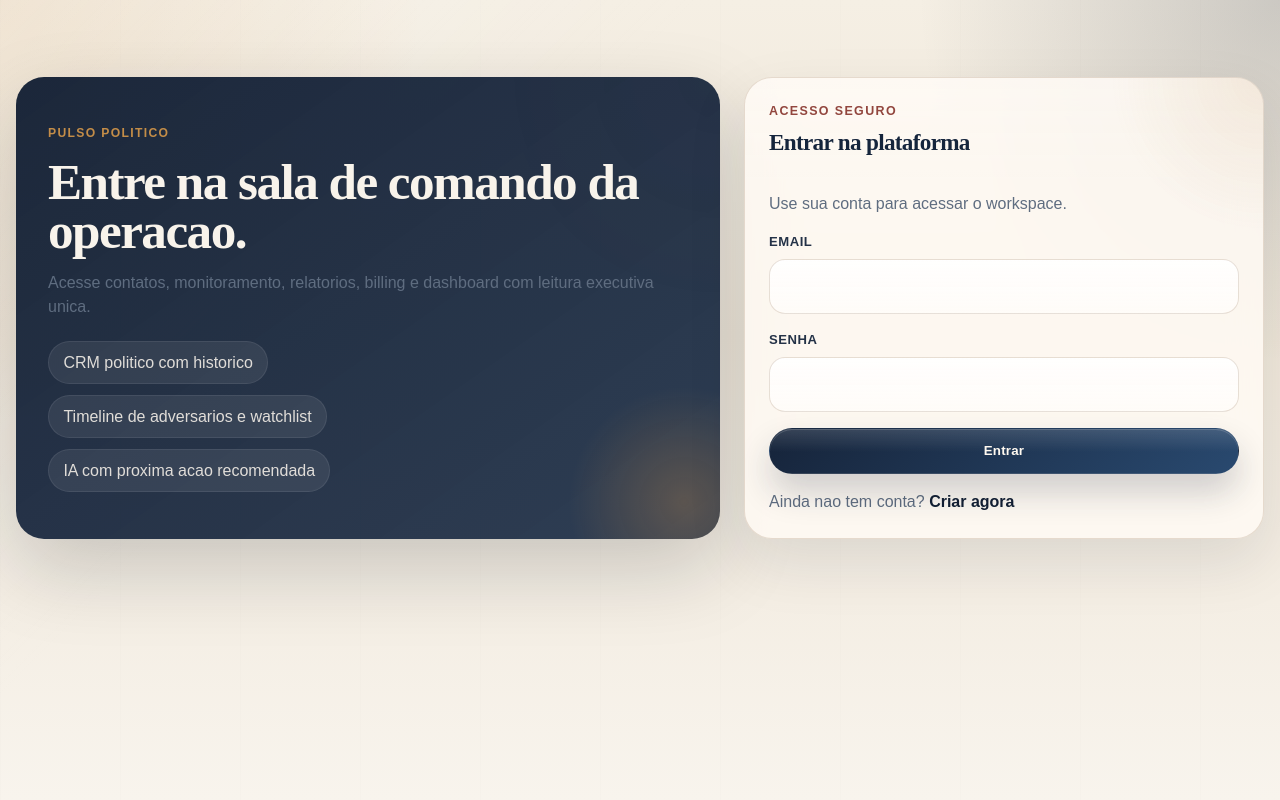
Test case: AuthPage › mostra erro quando a autenticacao falha
Step 1. Type "owner@pulso.local" into the field labelled "Email" → (1004, 287), box [769,259,1239,314]
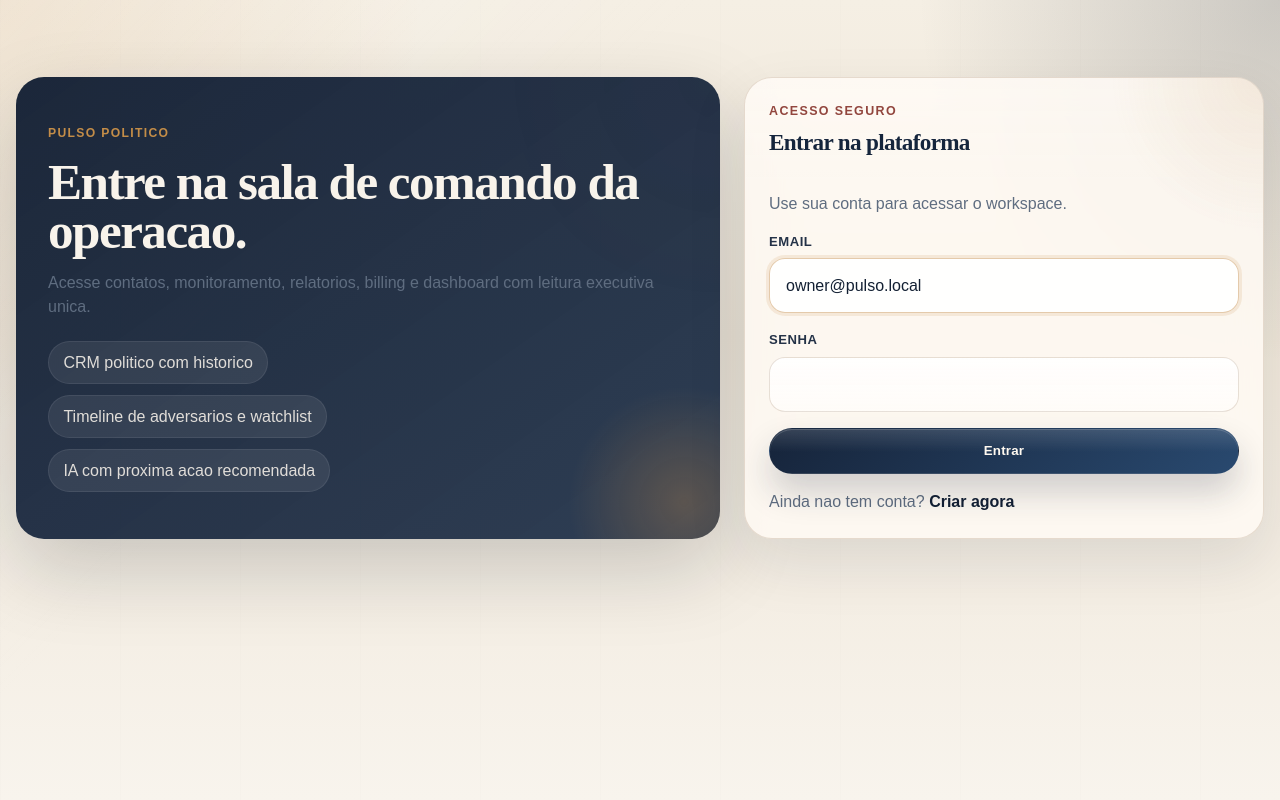
Step 2. Type "senha-invalida" into the password field labelled "Senha" → (1004, 384), box [769,357,1239,412]
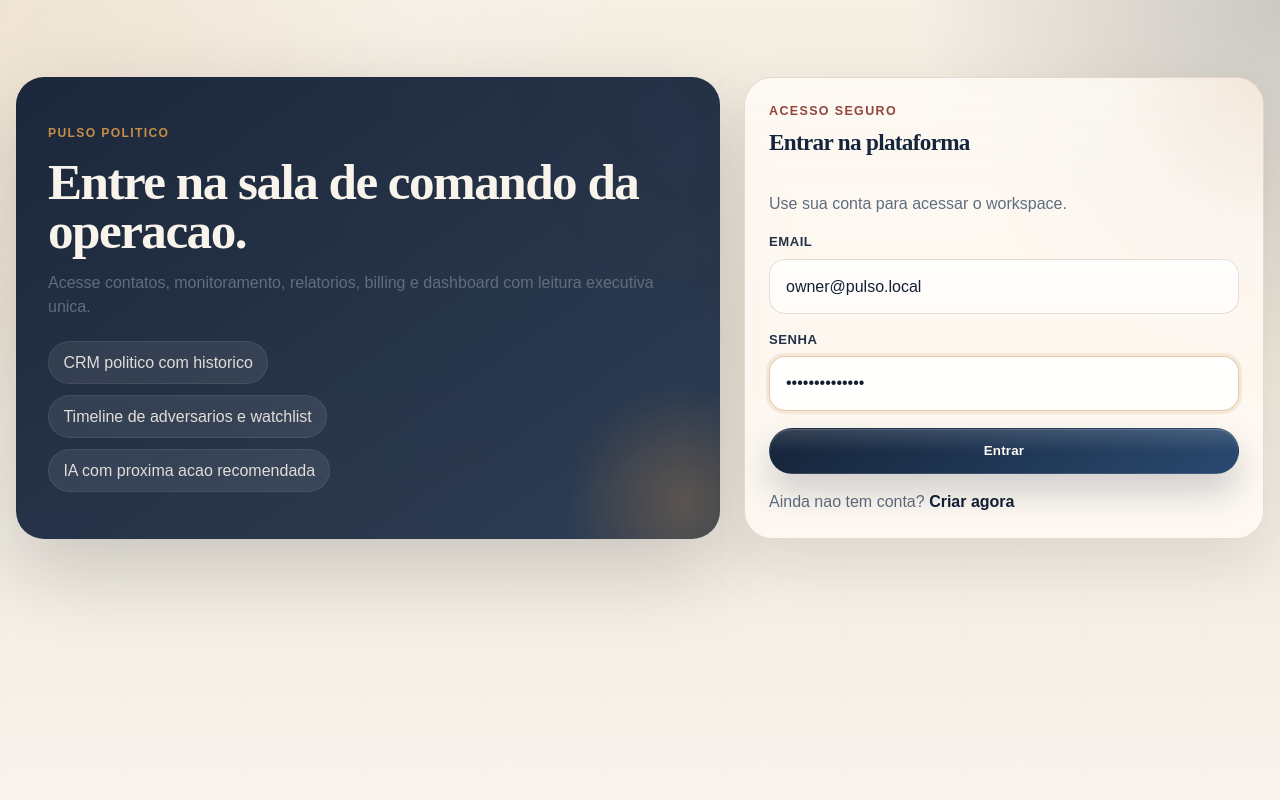
Step 3. Click the button "Entrar" → (1004, 451), box [769,428,1239,474]
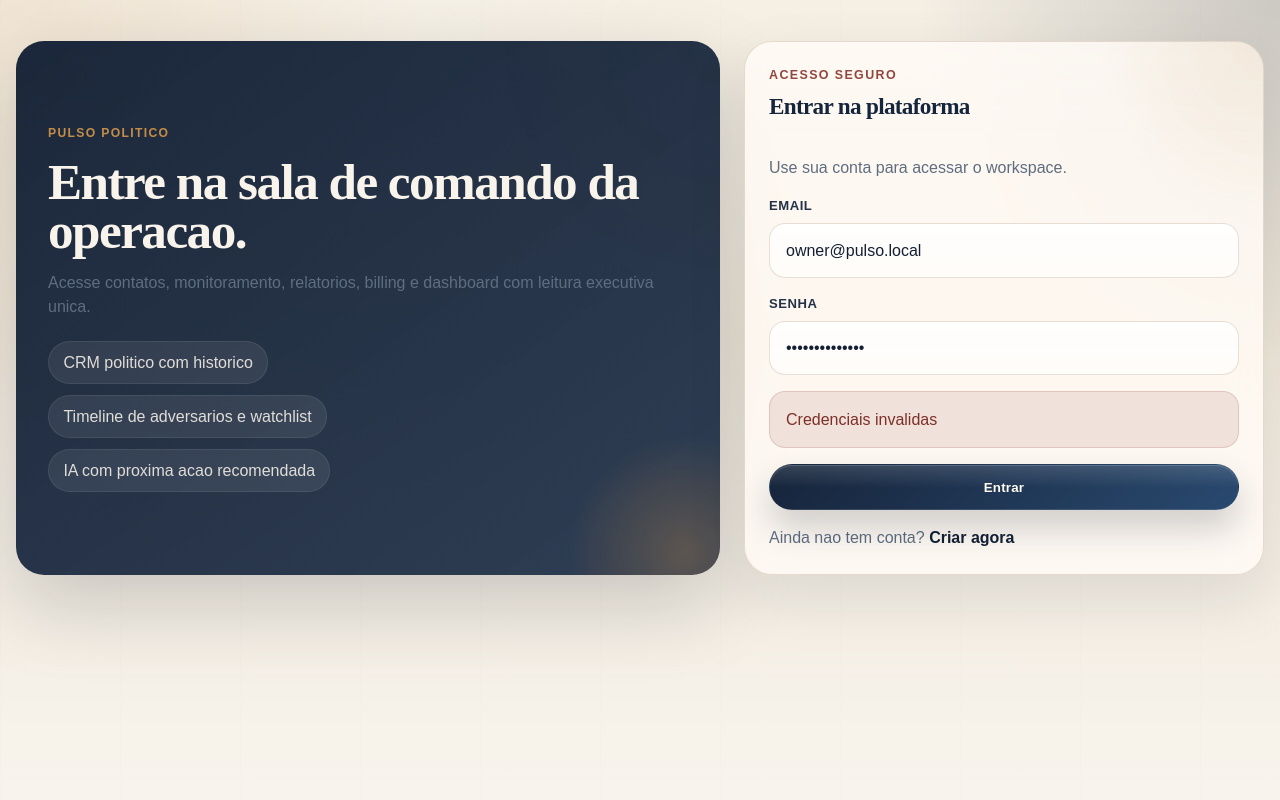
Expected: the text "Credenciais invalidas" is shown, [769,391,1239,448]
